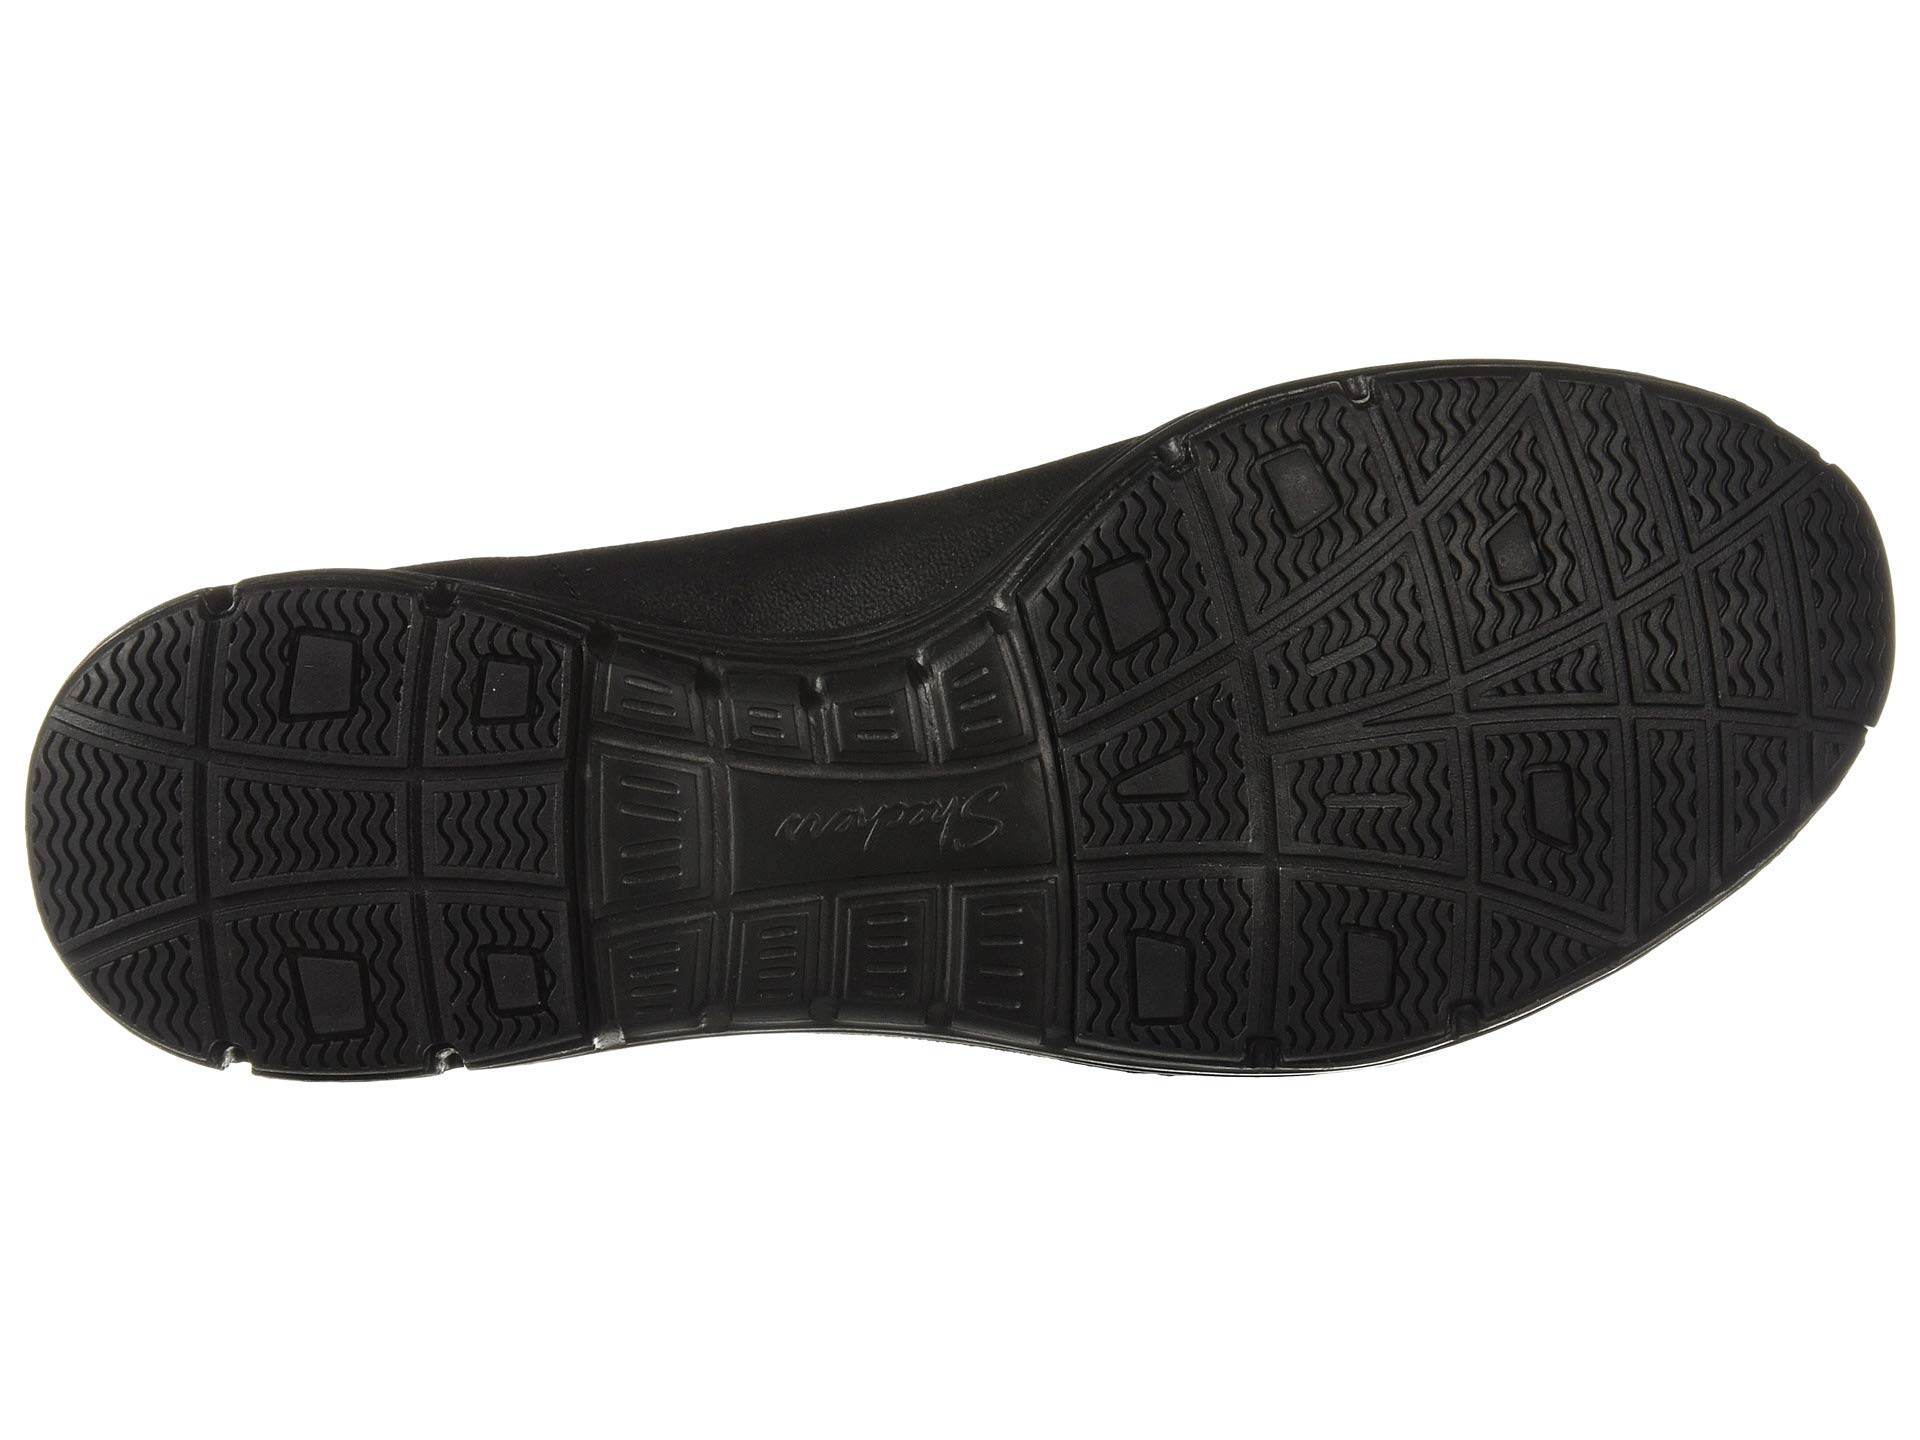chevron: (1423, 374, 1745, 734), (221, 620, 540, 944)
quad: (1423, 374, 1745, 734), (221, 620, 540, 944)
